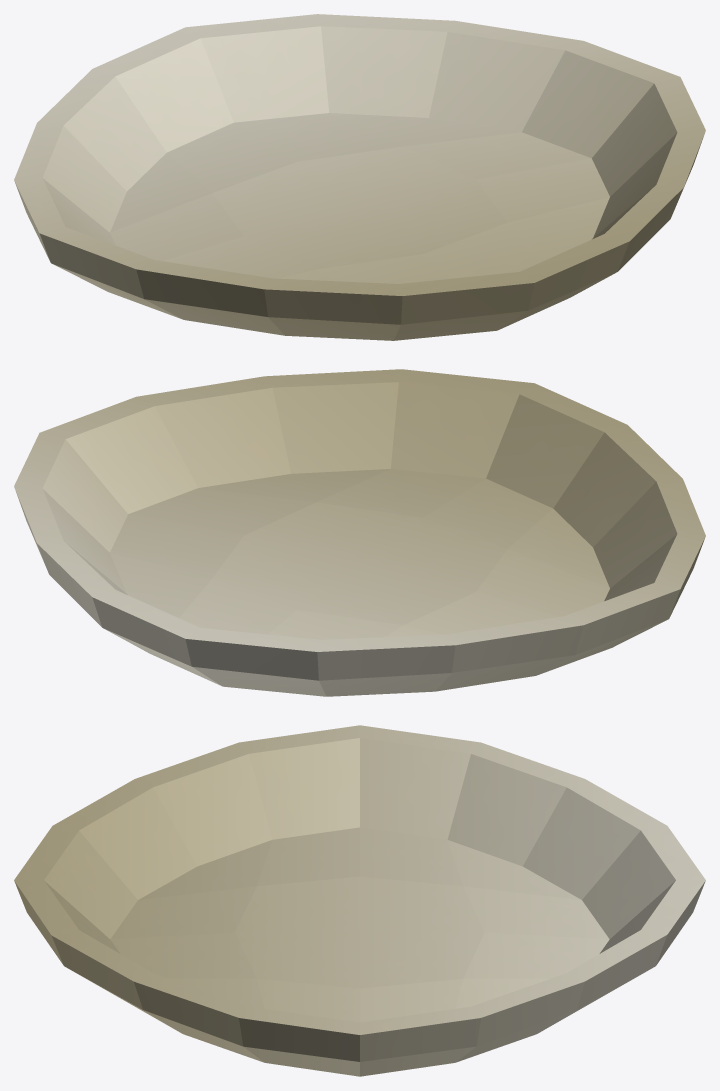
The model's file is PlantPot_51.fbx.
3 views of the same model, one above another, from view 1: azimuth 30°, elevation 25°; view 2: azimuth 150°, elevation 25°; view 3: azimuth 270°, elevation 25° (orthographic).
Visible parts, largest first — view 1: PlantPot_51; view 2: PlantPot_51; view 3: PlantPot_51.
Part boxes in pixels (x1,y1,x2,y2): PlantPot_51: (14, 14, 705, 340); PlantPot_51: (14, 369, 705, 696); PlantPot_51: (14, 725, 705, 1076).
Bounding box in the file's own units: 28.26 × 3.17 × 26.67.
